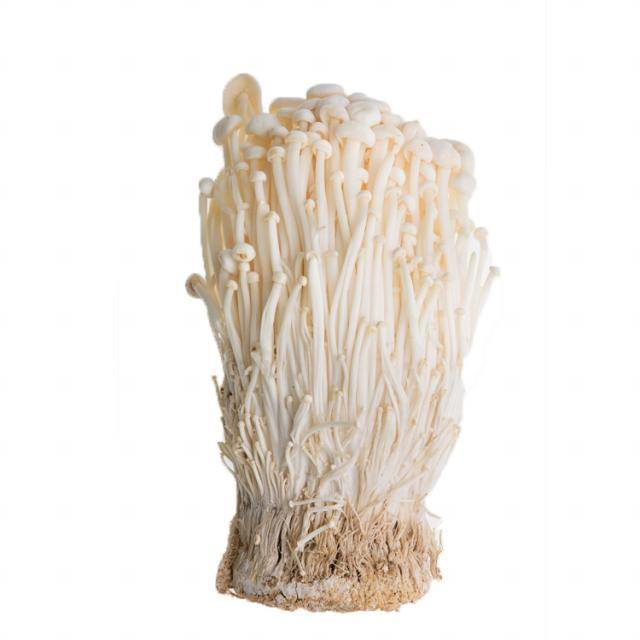Mushroom: (200, 68, 494, 610)
